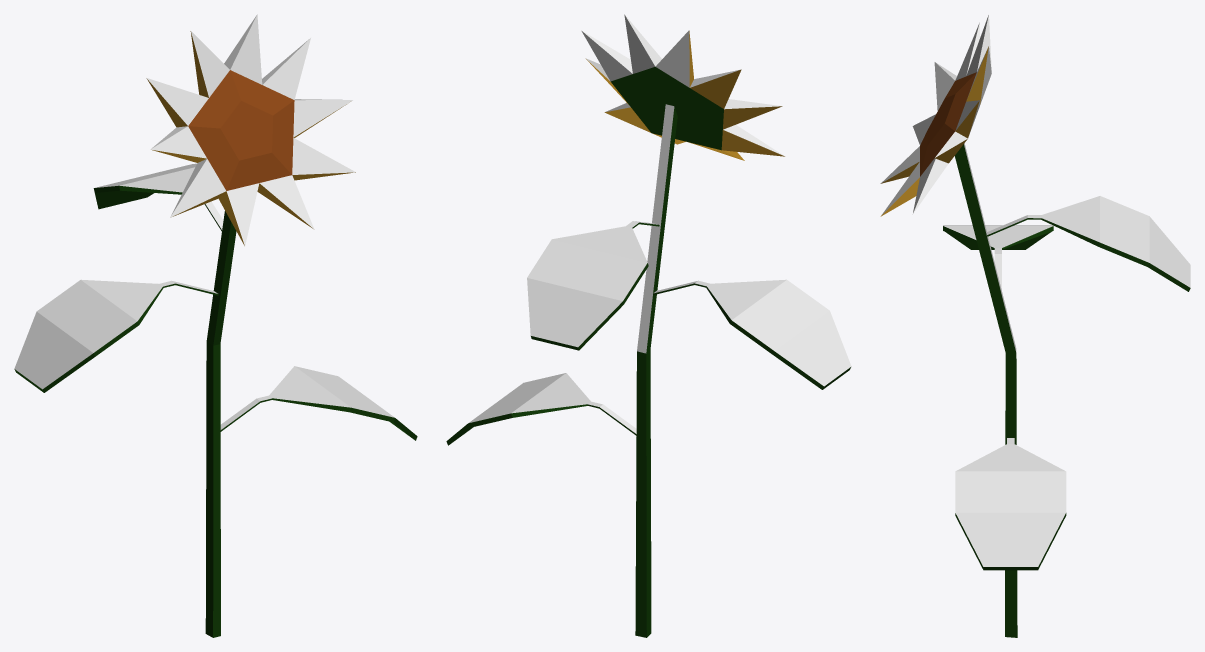
The model's file is Flower_5_Snow.fbx.
3 views of the same model, side by side, from view 1: azimuth 30°, elevation 25°; view 2: azimuth 150°, elevation 25°; view 3: azimuth 270°, elevation 25° (orthographic). The views are drawn at different scales.
Parts seen in each view (by area): view 1: Flower_5_Snow; view 2: Flower_5_Snow; view 3: Flower_5_Snow.
Boxes of the visible parts, bbox=[...] form: Flower_5_Snow: bbox=[14, 14, 417, 637]; Flower_5_Snow: bbox=[446, 14, 851, 637]; Flower_5_Snow: bbox=[880, 14, 1190, 637].
Size of the model in its own units: 125 by 194 by 90.34.
